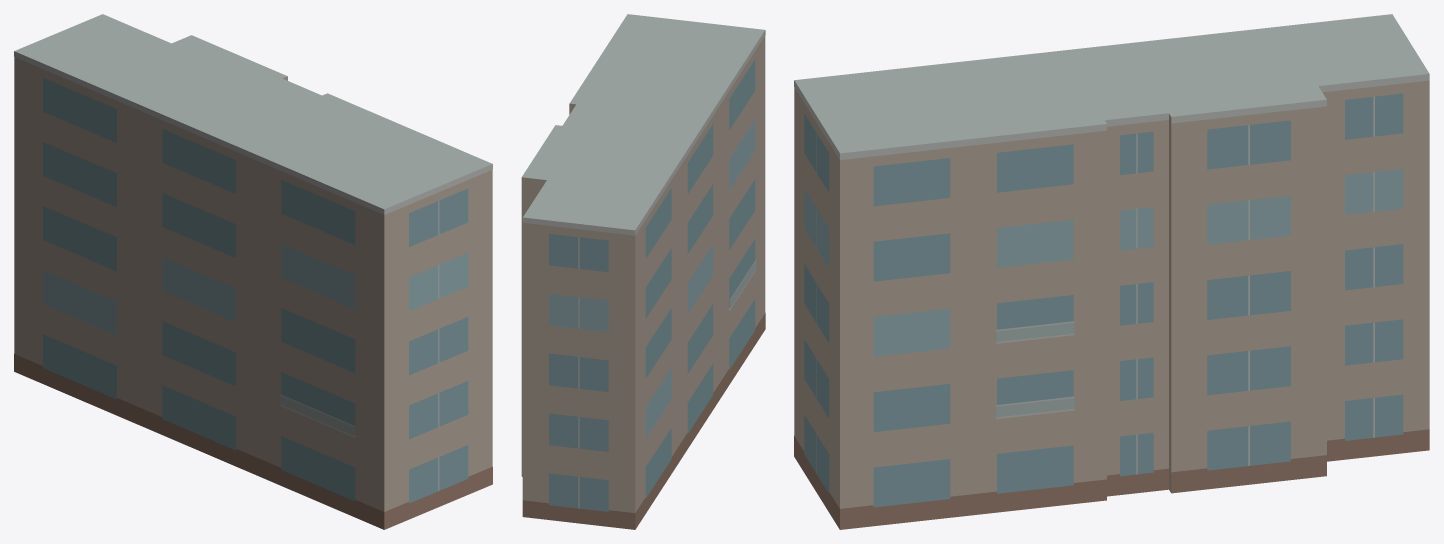
Rendered from survey-upis-32715881.glb.
3 views of the same model, side by side, from view 1: azimuth 30°, elevation 25°; view 2: azimuth 150°, elevation 25°; view 3: azimuth 270°, elevation 25° (orthographic). The views are drawn at different scales.
Parts seen in each view (by area): view 1: survey-upis-32715881.tmp; view 2: survey-upis-32715881.tmp; view 3: survey-upis-32715881.tmp.
Part boxes in pixels (x1,y1,x2,y2): survey-upis-32715881.tmp: (14, 14, 492, 529); survey-upis-32715881.tmp: (521, 14, 765, 529); survey-upis-32715881.tmp: (794, 14, 1429, 529).
Bounding box in the file's own units: 10.98 × 13.8 × 21.13.
